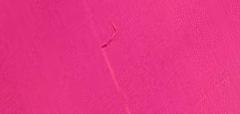snag: (101, 22, 120, 51)
